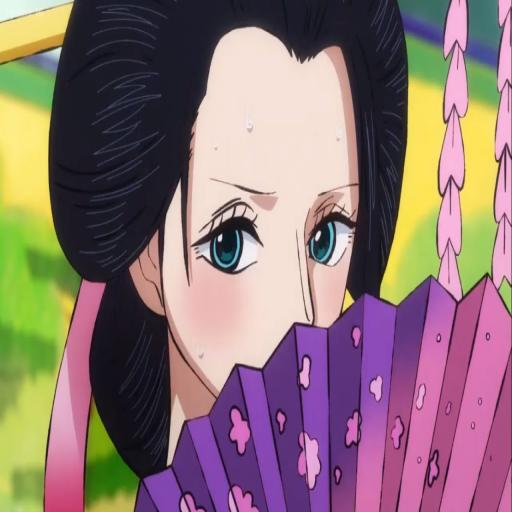NicoRobin: (50, 0, 428, 512)
